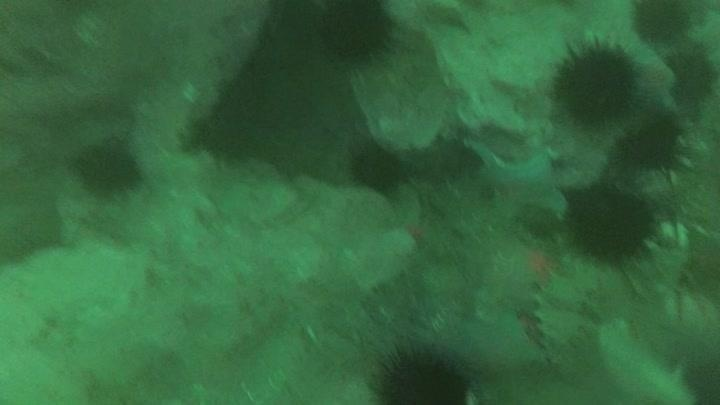echinus: (549, 35, 641, 128), (563, 181, 658, 264), (369, 341, 476, 404), (191, 89, 278, 163), (315, 1, 396, 63), (615, 109, 688, 175), (72, 137, 144, 200), (346, 138, 407, 196), (664, 44, 717, 103), (629, 1, 693, 46), (678, 350, 720, 405)
holothurian: (535, 253, 600, 383)
starfish: (463, 136, 572, 228), (588, 317, 695, 405), (451, 304, 548, 397), (1, 189, 68, 265), (627, 48, 678, 109), (508, 239, 564, 290)
